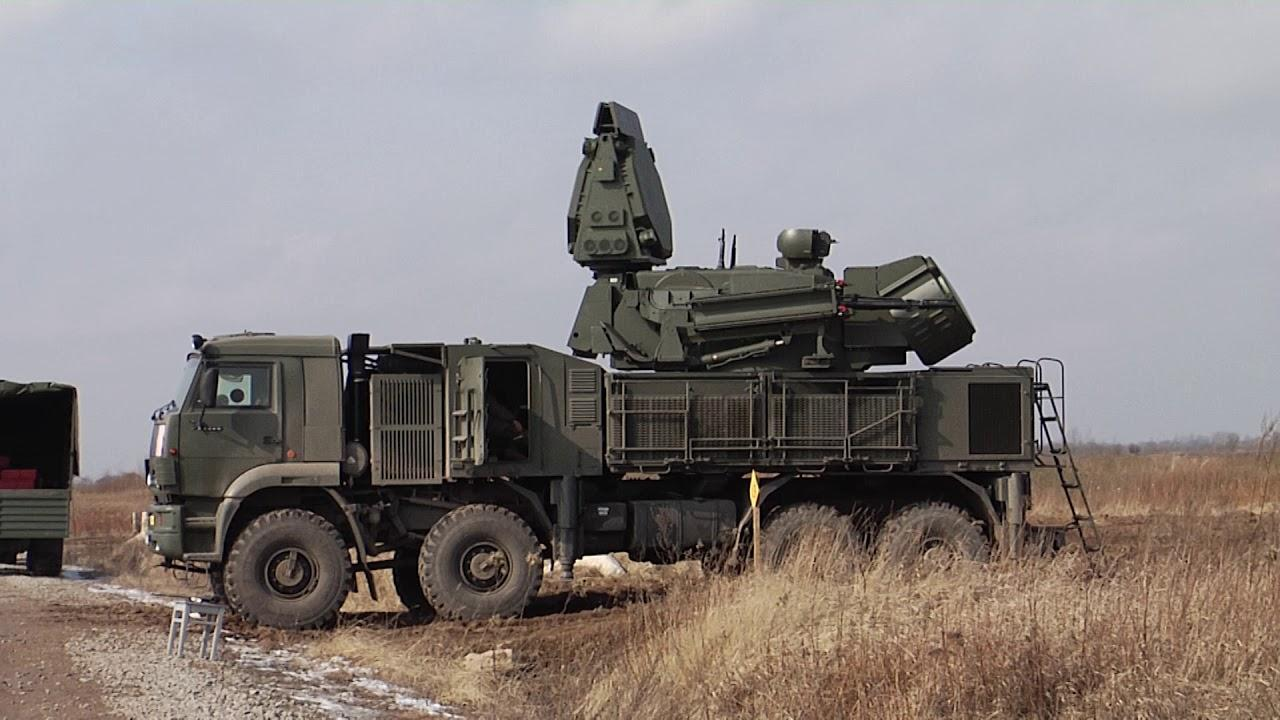truck: (151, 261, 1090, 630), (0, 368, 79, 580)
